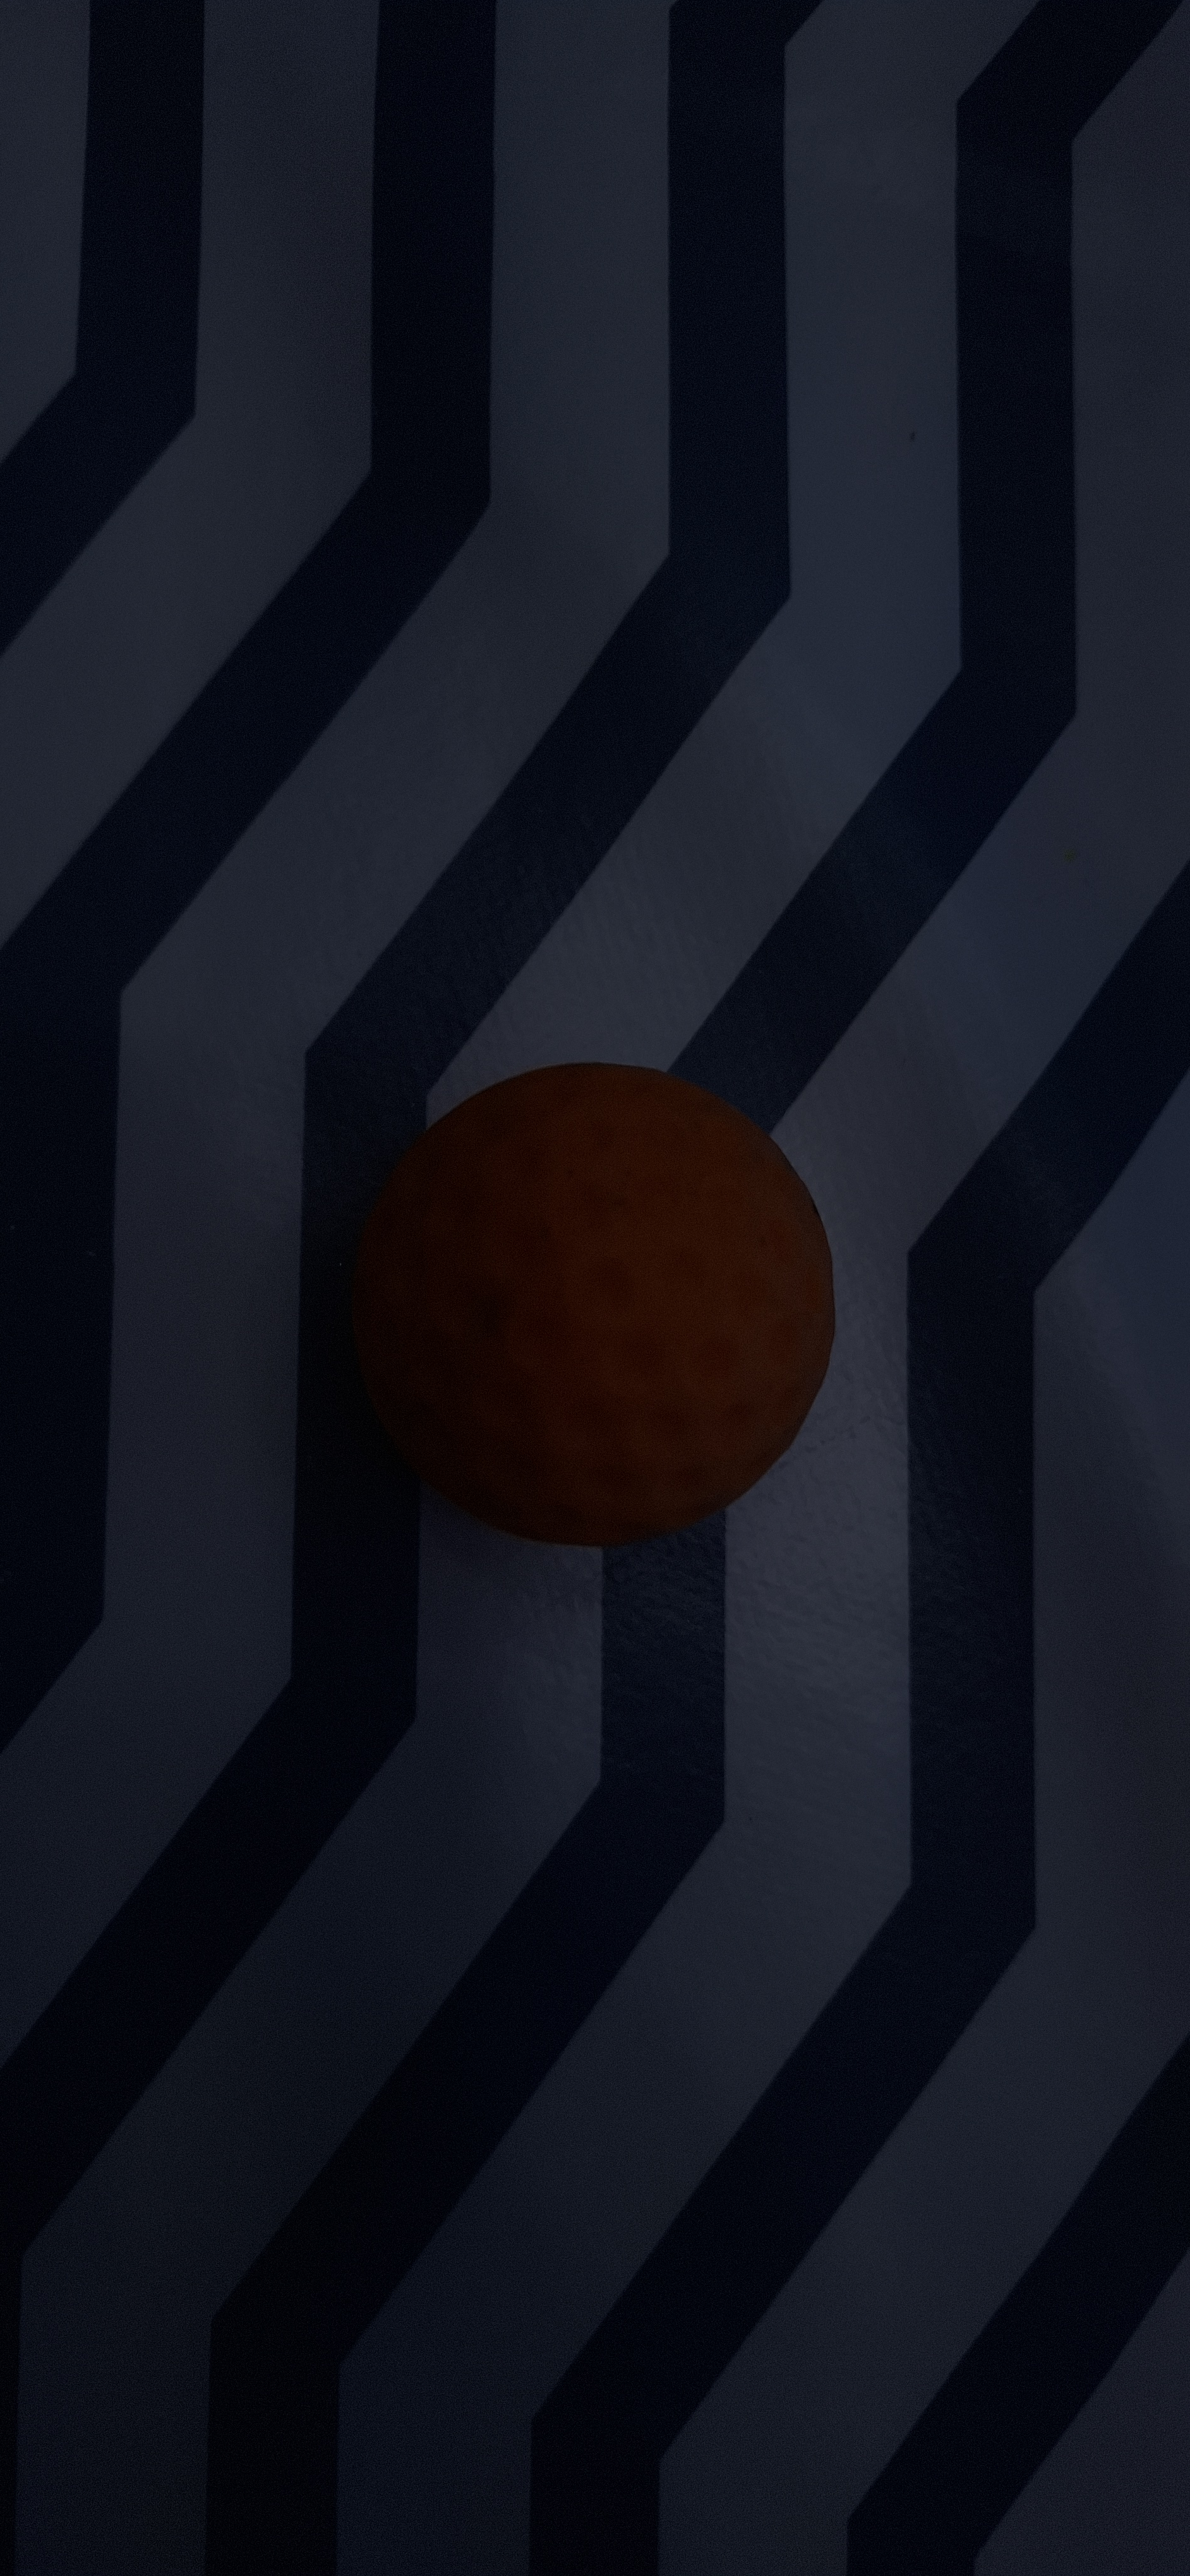ball: (488, 762, 713, 1789)
